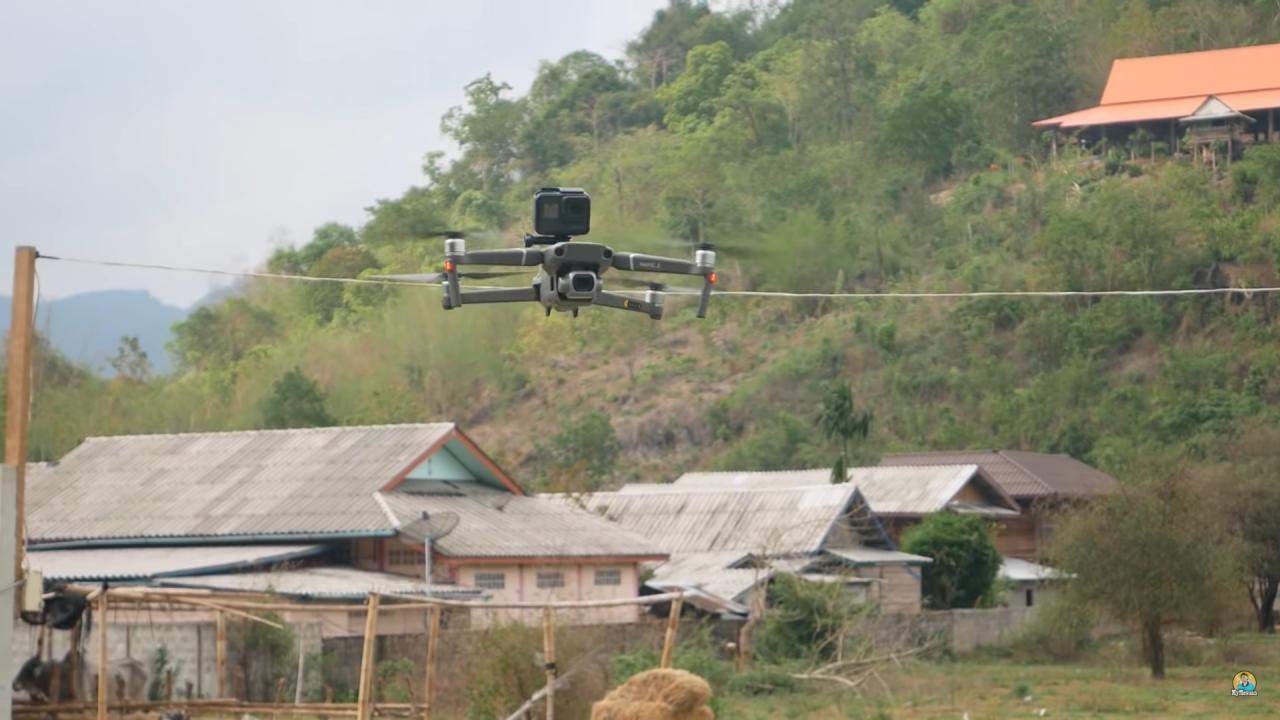Drone: (350, 172, 784, 330)
